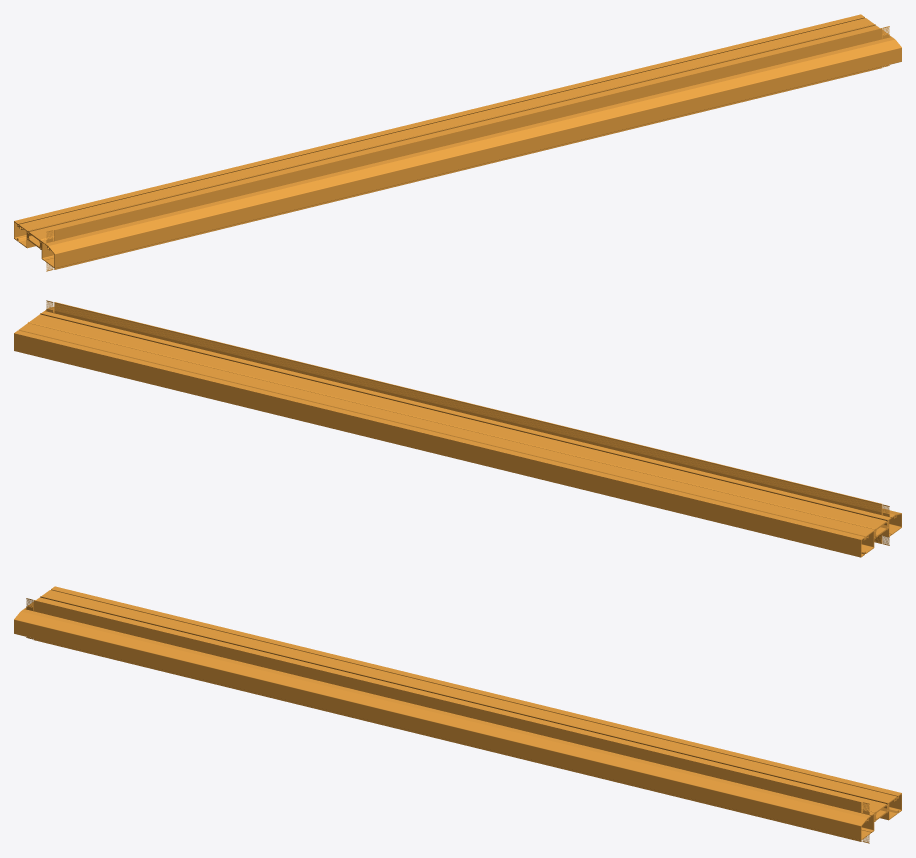
The model's file is front-p4-hhi-t04.glb.
3 views of the same model, one above another, from view 1: azimuth 30°, elevation 25°; view 2: azimuth 150°, elevation 25°; view 3: azimuth 330°, elevation 25° (orthographic).
Visible parts, largest first — view 1: FRONT P4_HHI T04; view 2: FRONT P4_HHI T04; view 3: FRONT P4_HHI T04.
Boxes of the visible parts, x1,y1,x2,y2 form: FRONT P4_HHI T04: [14, 14, 901, 271]; FRONT P4_HHI T04: [14, 300, 901, 557]; FRONT P4_HHI T04: [14, 586, 901, 843].
Bounding box in the file's own units: 0.05 × 0.00225 × 0.00418.
